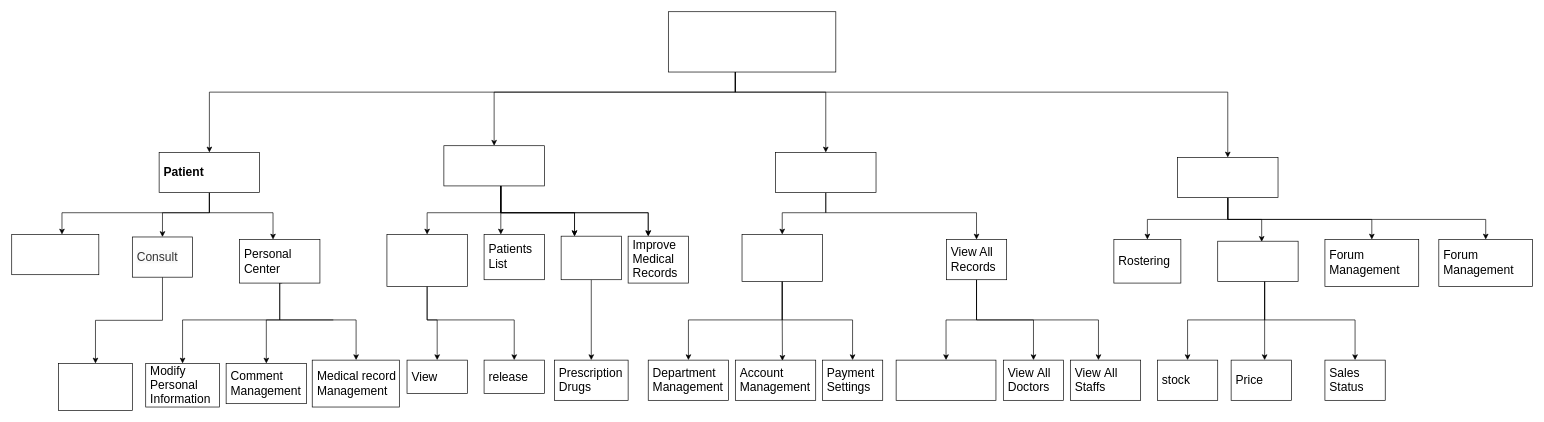
Image size: 1544x422. Some labels were removed from this diagram. The centre of each missing label's shape, as x and y in pixels:
"Admin" goes at (825,172).
"Appointment Information" goes at (426,260).
"Appointments" goes at (55,254).
"Doctor" goes at (493,165).
"Drug Management" goes at (1257,261).
"E-healthcare System(Online Consultation and Medical Subscription" goes at (752,41).
"Hospital Management" goes at (781,257).
"Reply Visit" goes at (590,258).
"Staff" goes at (1227,177).
"View All Medical Records" goes at (945,379).
"View Prescription" goes at (95,386).
